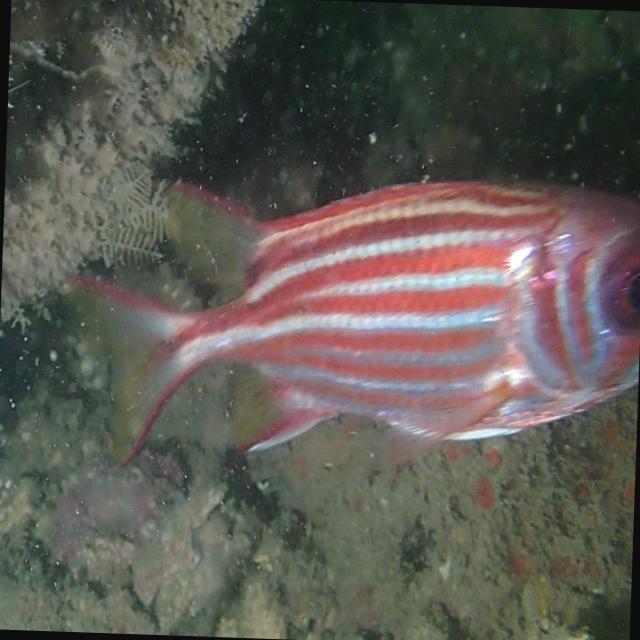Asker Baligi: (48, 129, 640, 503)
